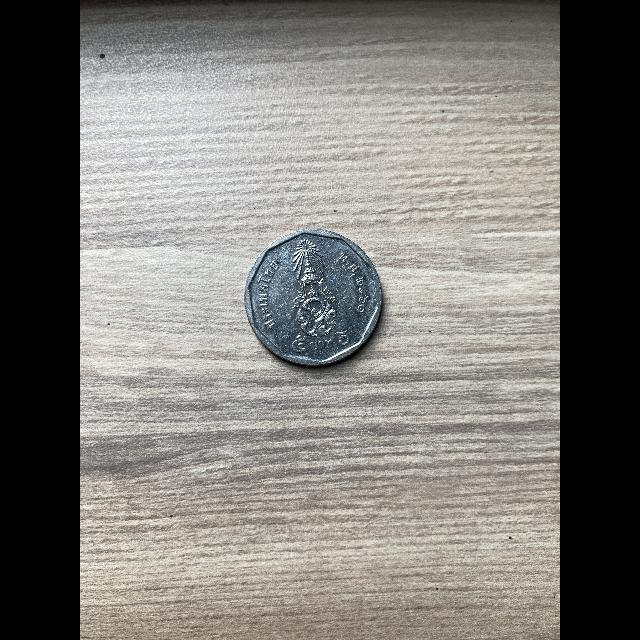5 Bath: (244, 231, 387, 372)
